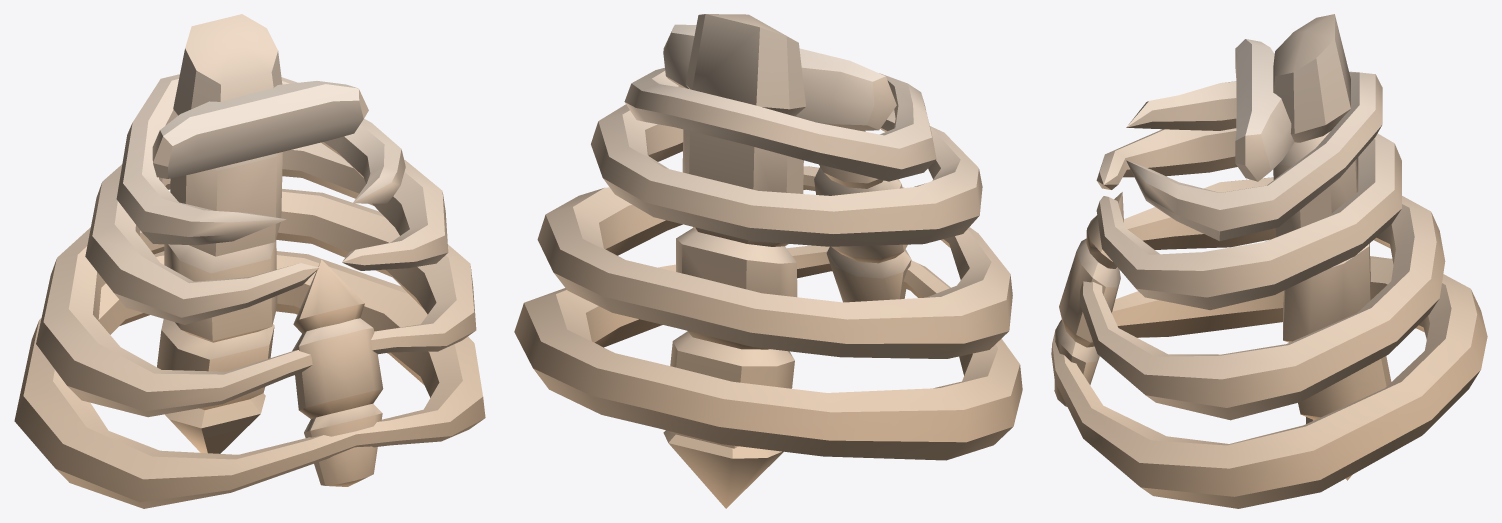
The model's file is ribcage.glb.
The picture shows the model from 3 angles, left to right: view 1: azimuth 30°, elevation 25°; view 2: azimuth 150°, elevation 25°; view 3: azimuth 270°, elevation 25°; orthographic projection. The views are drawn at different scales.
Parts seen in each view (by area): view 1: ribcage; view 2: ribcage; view 3: ribcage.
Boxes of the visible parts, x1,y1,x2,y2 form: ribcage: (14,14,485,508); ribcage: (514,14,1022,508); ribcage: (1051,14,1487,508).
Size of the model in its own units: 0.8457 by 0.8582 by 0.7469.
Materials: 1 (1 with a texture image).
